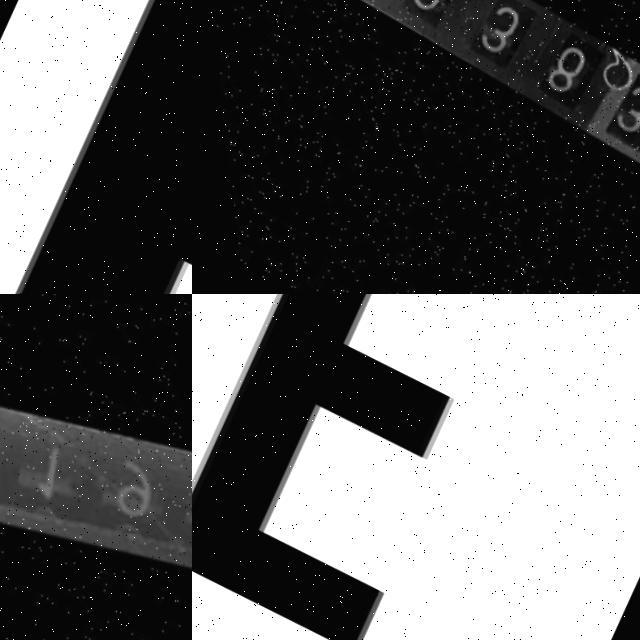0: (389, 0, 458, 25)
1: (3, 431, 80, 512)
3: (454, 0, 525, 67), (590, 79, 640, 150)
8: (519, 35, 592, 112), (165, 473, 192, 557)
9: (83, 446, 169, 534)
E: (192, 294, 444, 640)
